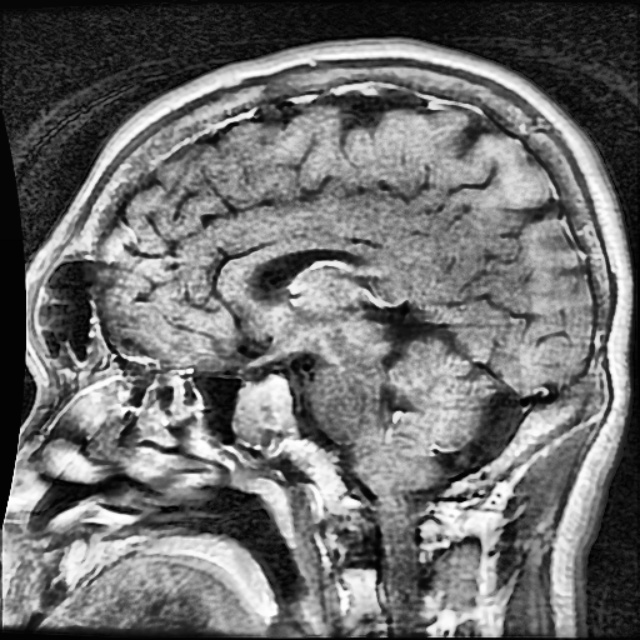Pituitary: (232, 370, 293, 452)
